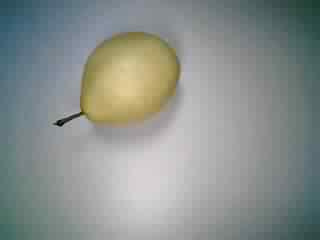pear: (43, 23, 187, 142)
